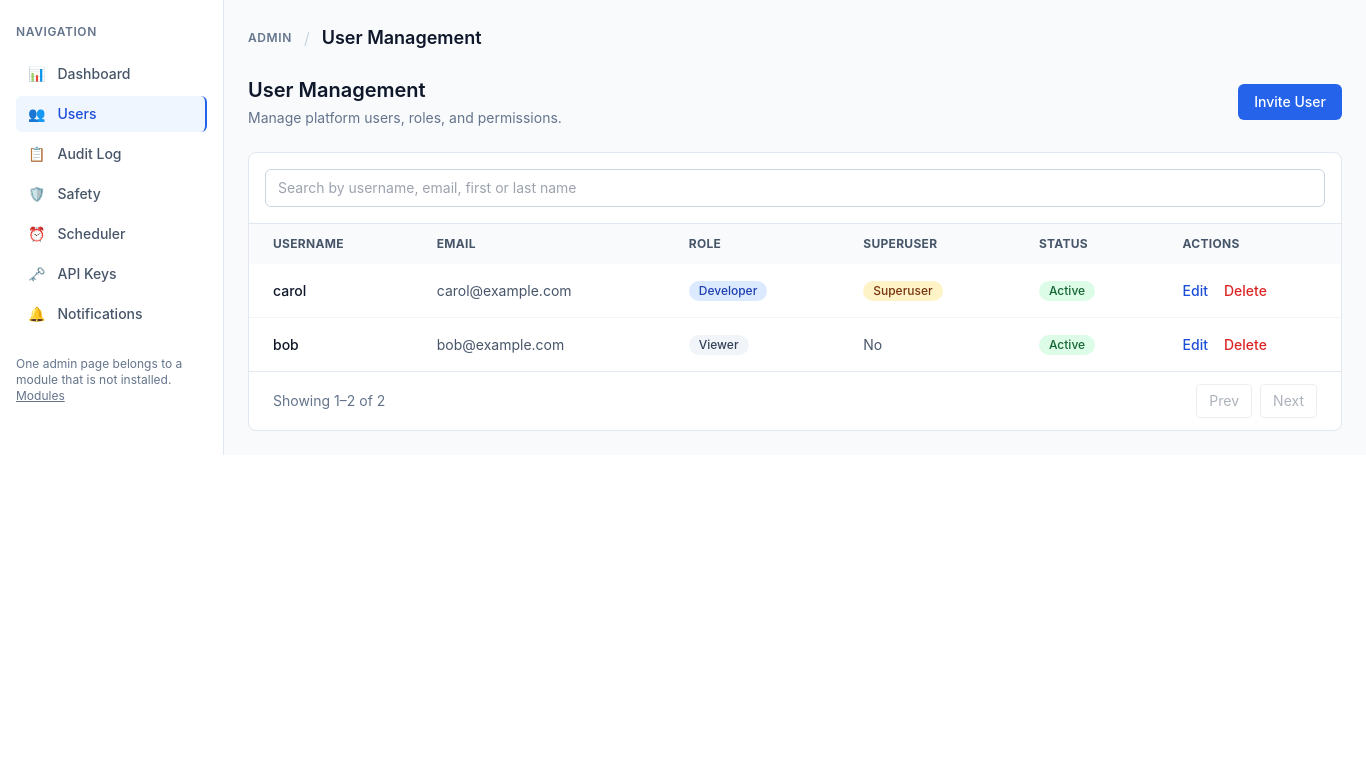
Test: /admin/users editing a user › a save closes the dialog, reloads the same search, announces it and returns focus
Expected: the element with test id "user-management-page" is shown, [248,76,1342,431]
Expected: the button with test id "edit-user-u-2" is shown, [1182,334,1208,354]
Type "bo" into the field with test id "user-search". click: (795, 188)
box: [265,169,1325,207]
Wait 300 ms
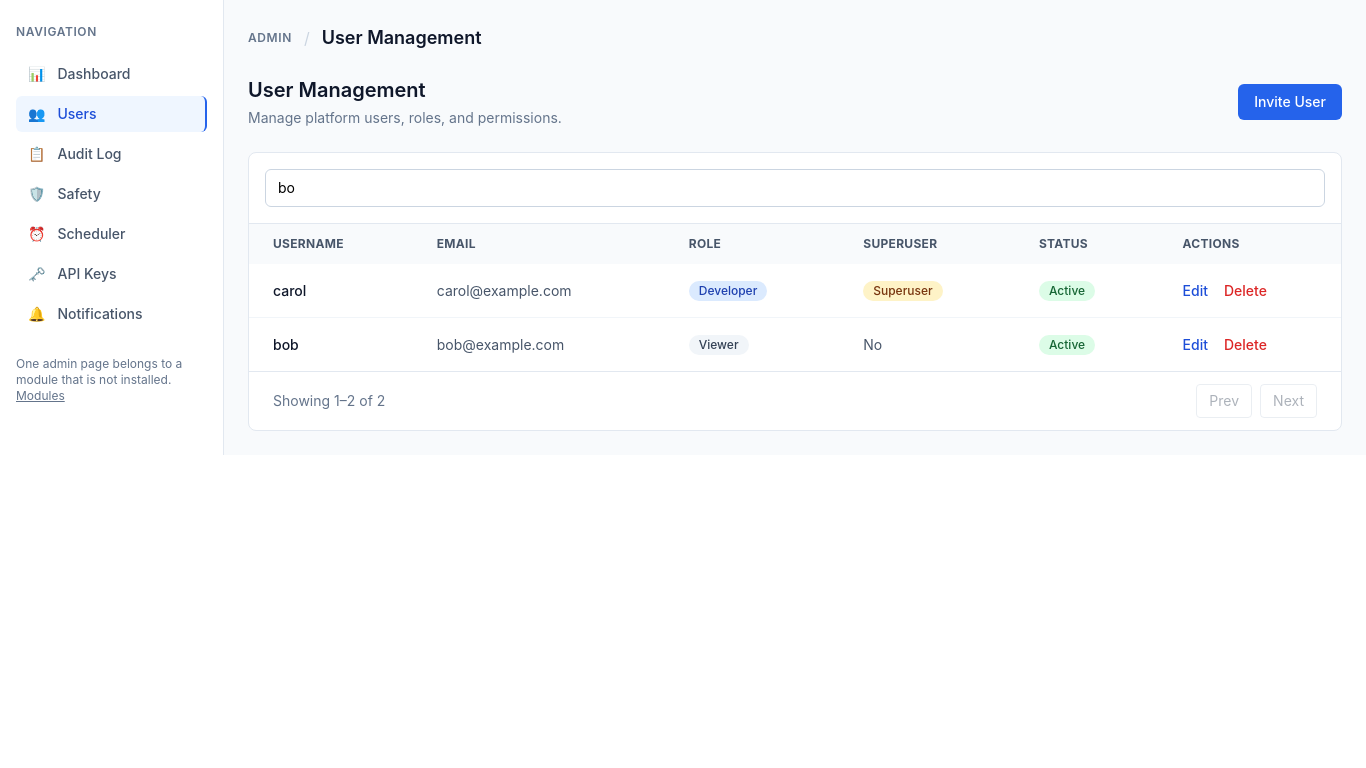
Click the button with test id "edit-user-u-2". click: (1195, 344)
box: [1182,334,1208,354]
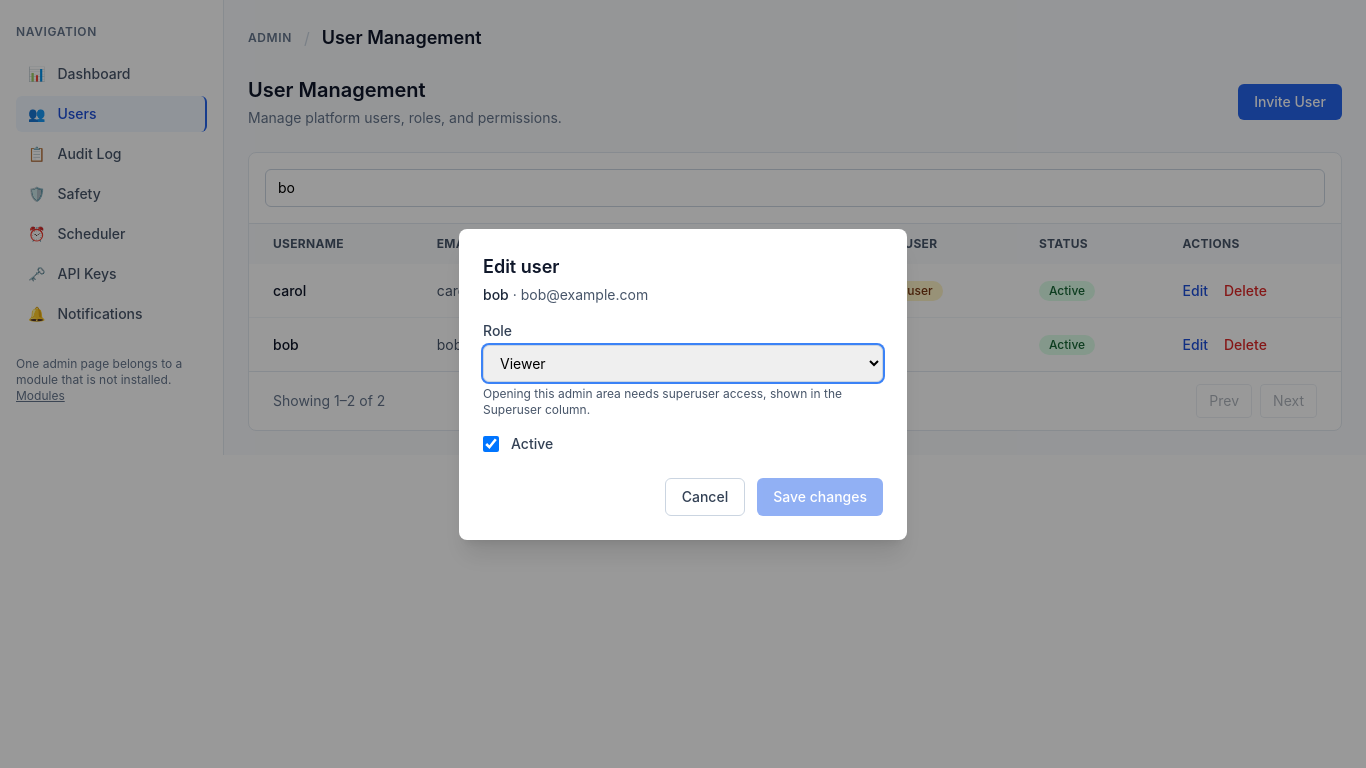
Select "Analyst" in the dropdown with test id "edit-role-select". click: (683, 363)
box: [483,344,883,382]
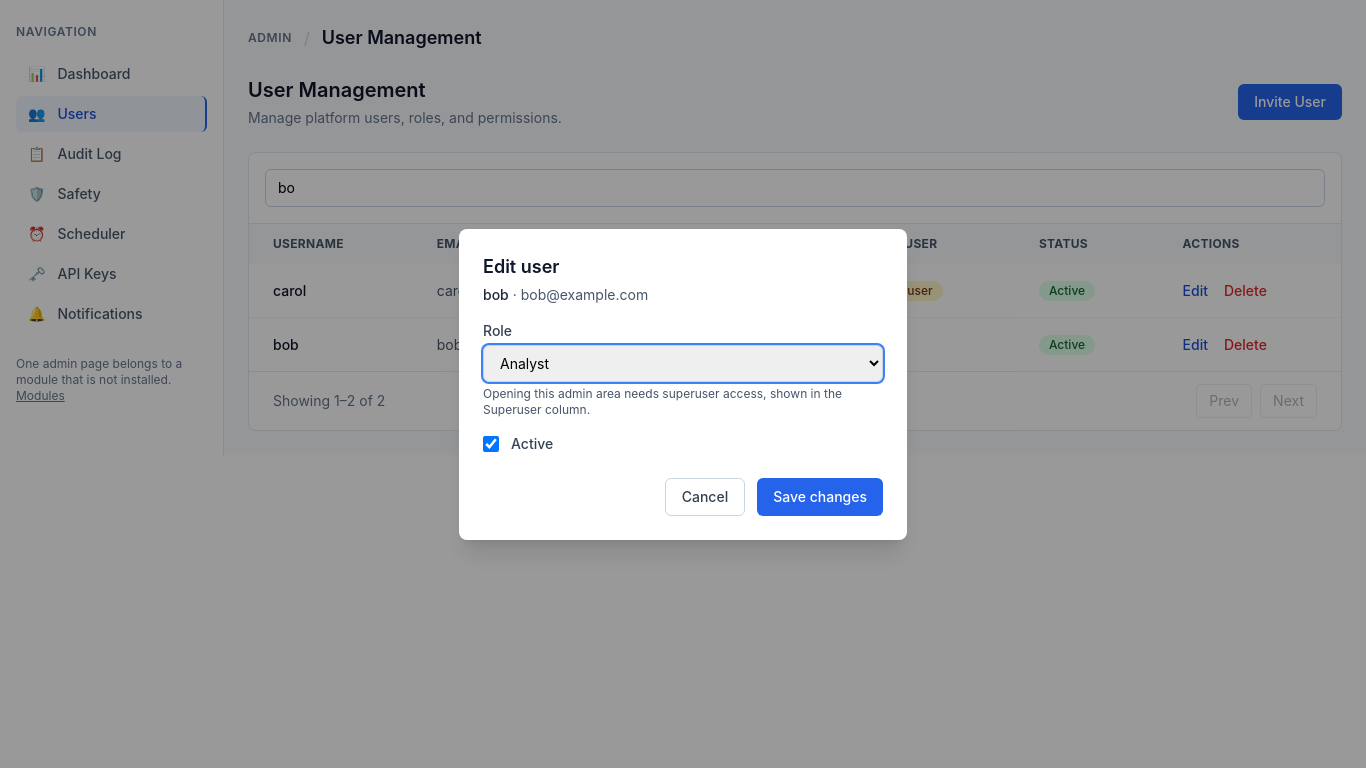
Click the button with test id "edit-save-button". click: (820, 496)
box: [757,478,883,516]
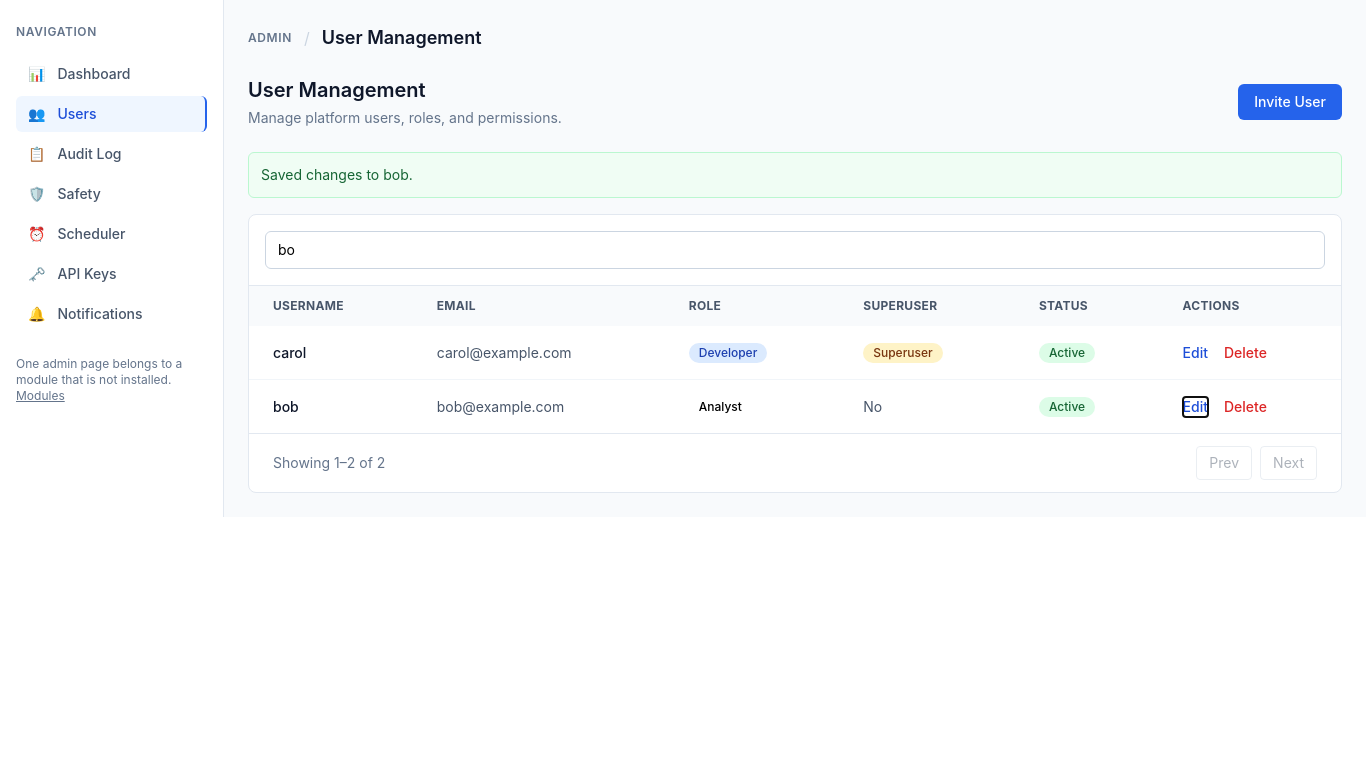
Expected: the dialog with test id "edit-user-modal" is gone
Expected: the message with test id "user-save-status" reads "Saved changes to bob.", [261,166,413,183]
Expected: the text "bob" shows "Analyst", [699,399,742,414]
